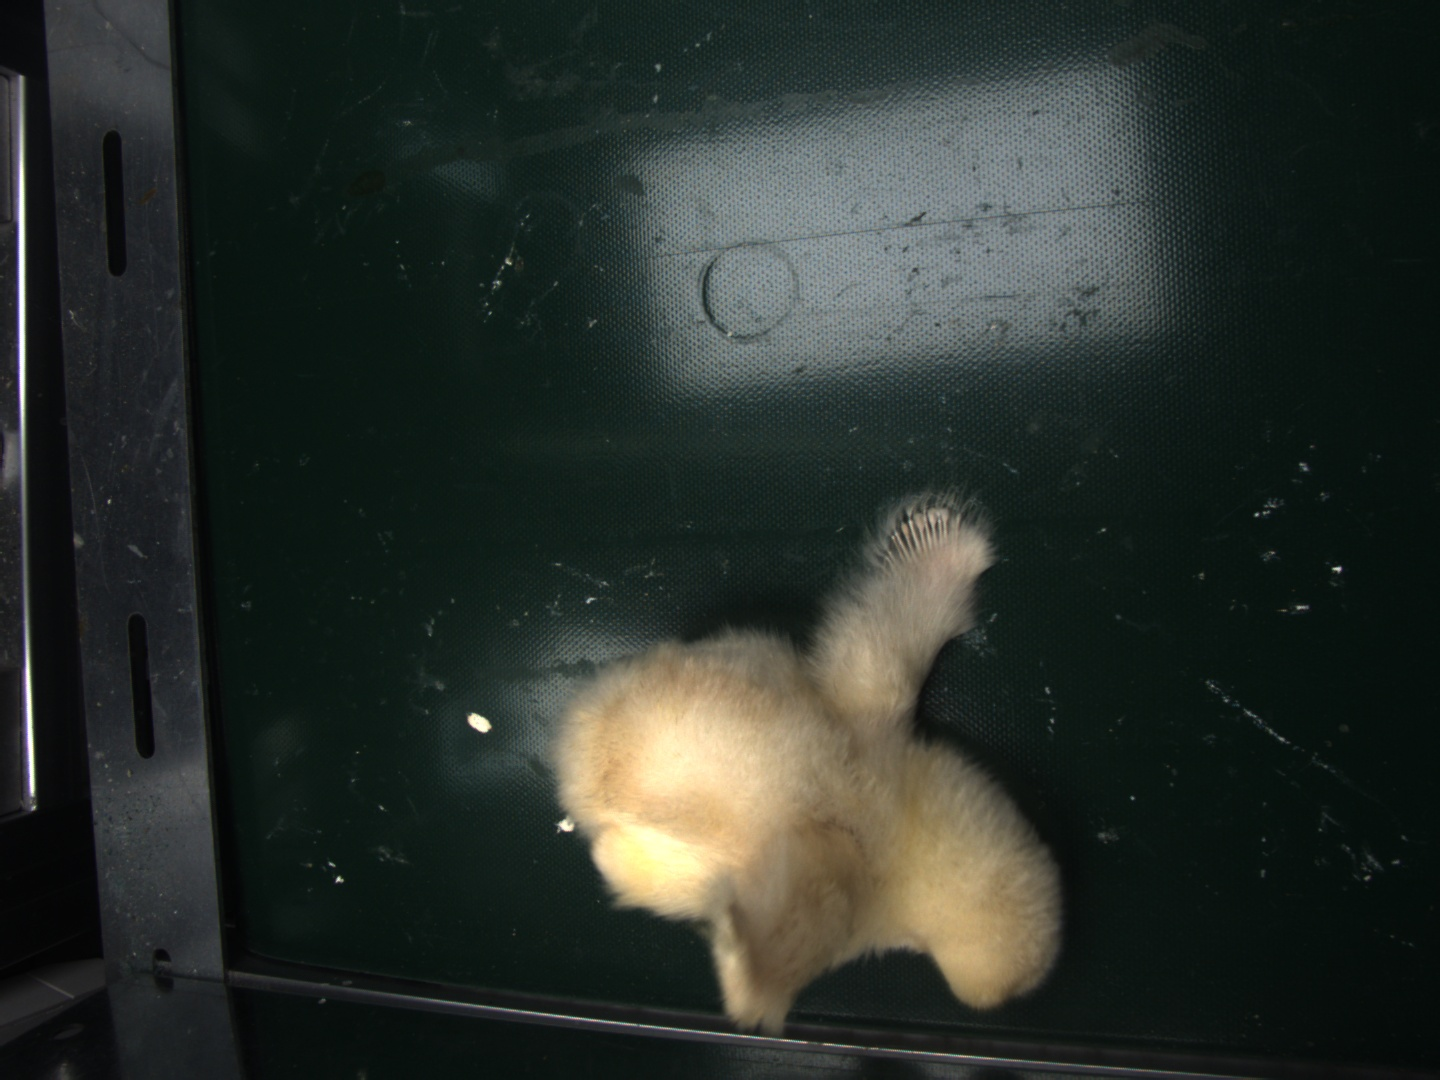male: (882, 504, 960, 569)
